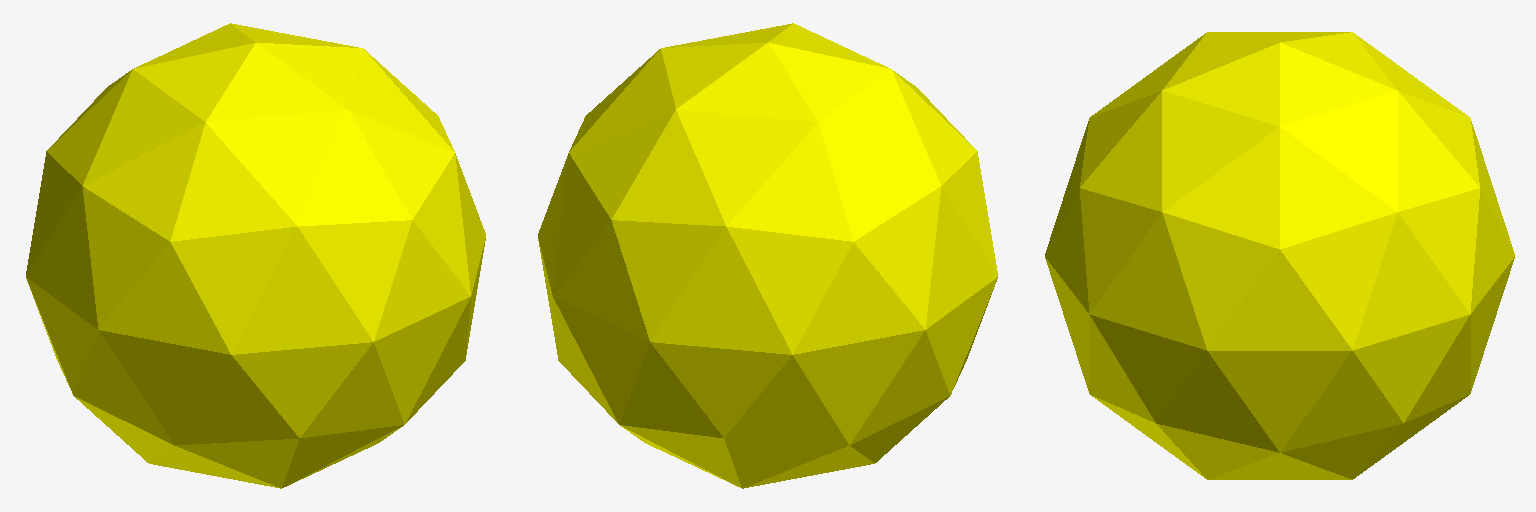
The model's file is sun.obj.
The picture shows the model from 3 angles: view 1: azimuth 30°, elevation 25°; view 2: azimuth 150°, elevation 25°; view 3: azimuth 270°, elevation 25°; orthographic projection.
Visible parts, largest first — view 1: Icosphere; view 2: Icosphere; view 3: Icosphere.
Boxes of the visible parts, x1=… form: Icosphere: x1=26, y1=23, x2=485, y2=488; Icosphere: x1=538, y1=23, x2=997, y2=488; Icosphere: x1=1045, y1=32, x2=1514, y2=479.
Bounding box in the file's own units: 1.9 × 2 × 2.